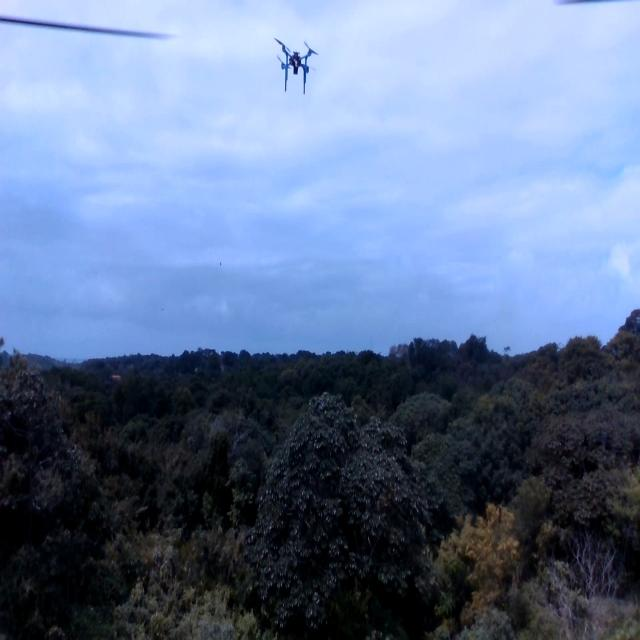-uav-: (265, 28, 321, 99)
